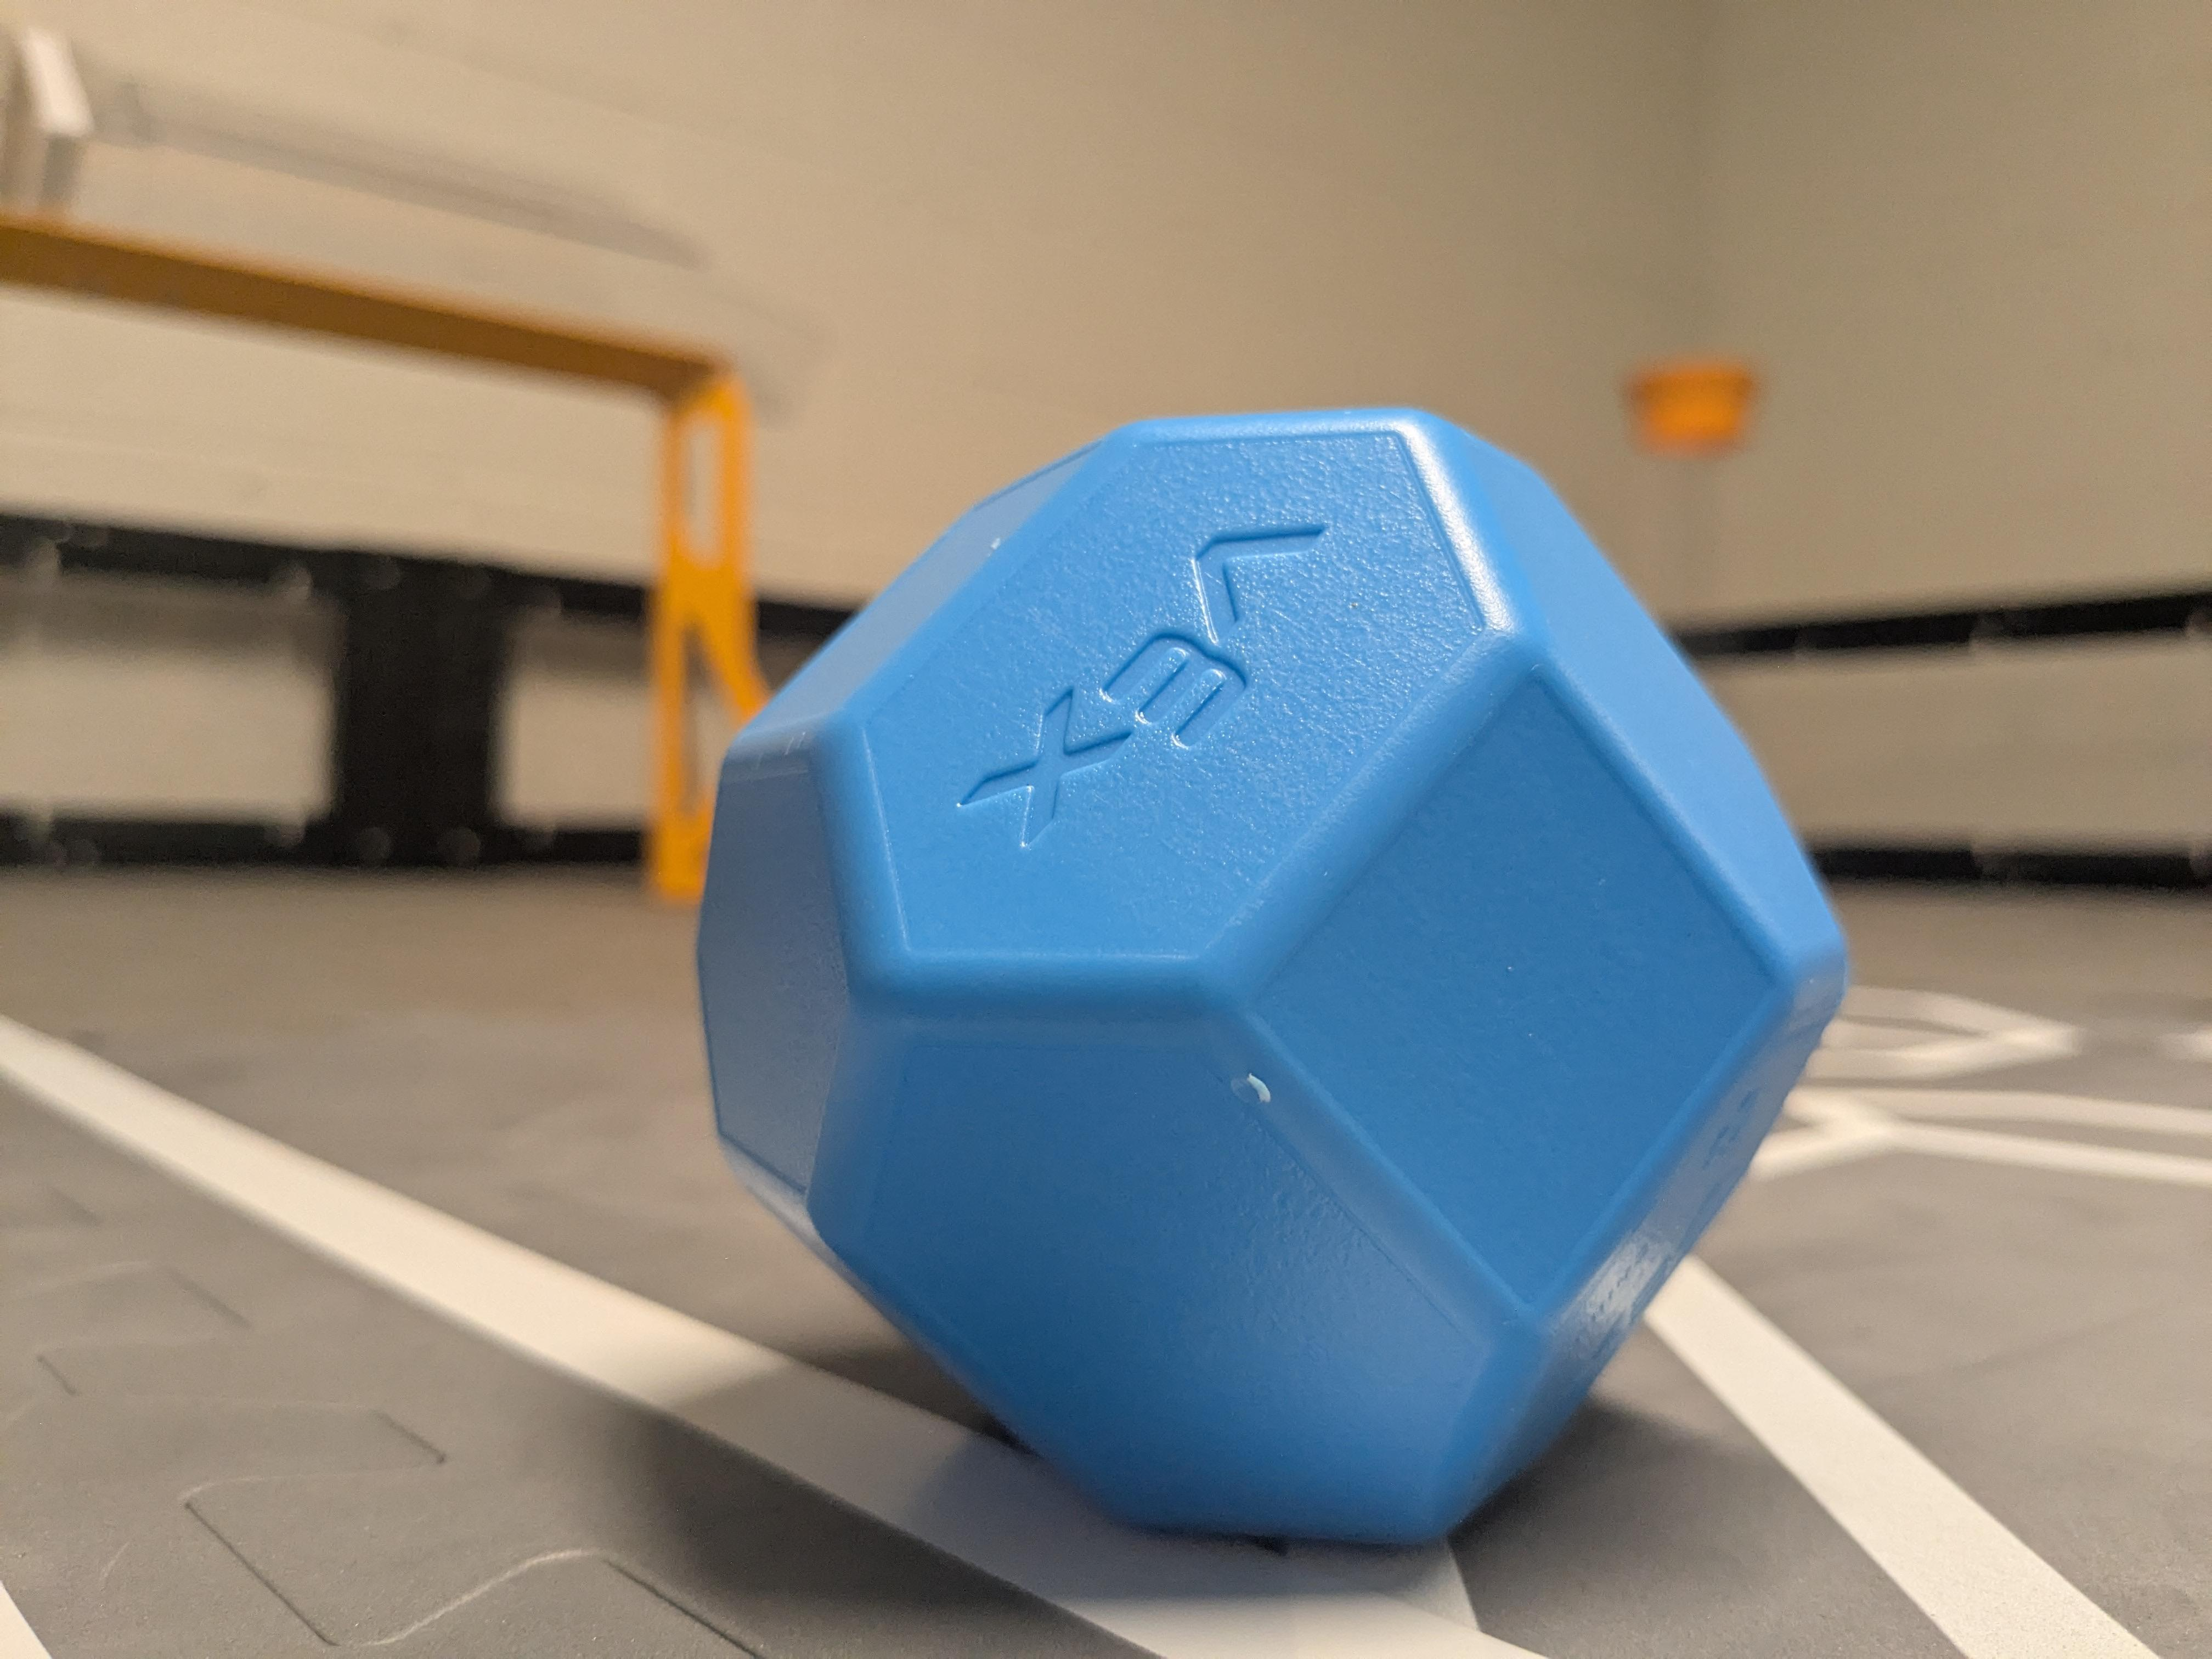Vex-Pieces-BLUE: (697, 410, 1846, 1542)
